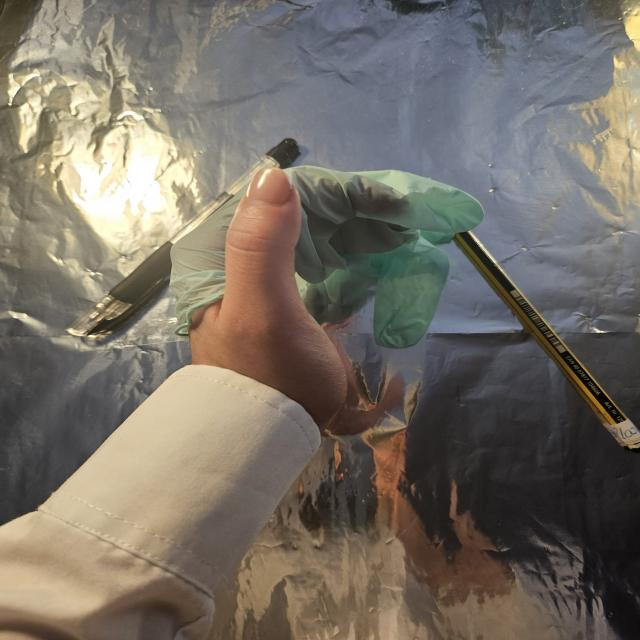glove_partial: (170, 164, 486, 434)
